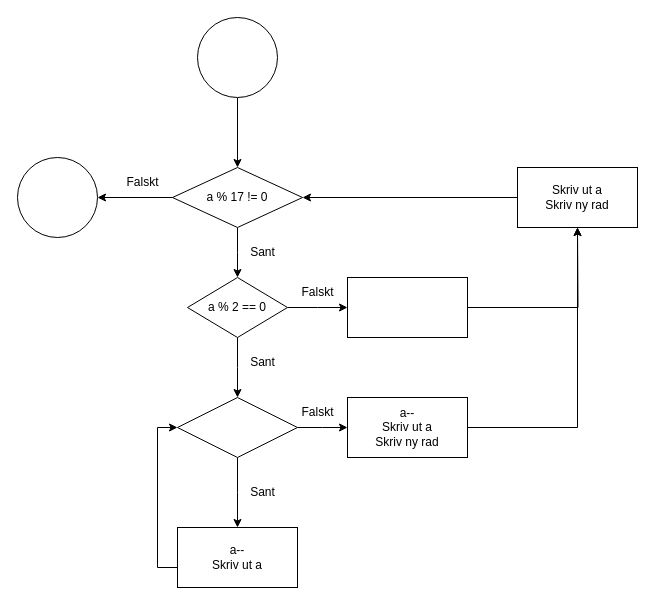
Some shapes in this 655 by 605 pixel diagram are drawn without their labels. The shapes that lost their labels are listed below. From the top down, each one's centre as x and y in pixels, then its label:
pixel 237 57: a = 199
pixel 407 307: a -= 3
pixel 237 427: a % 5 != 0
